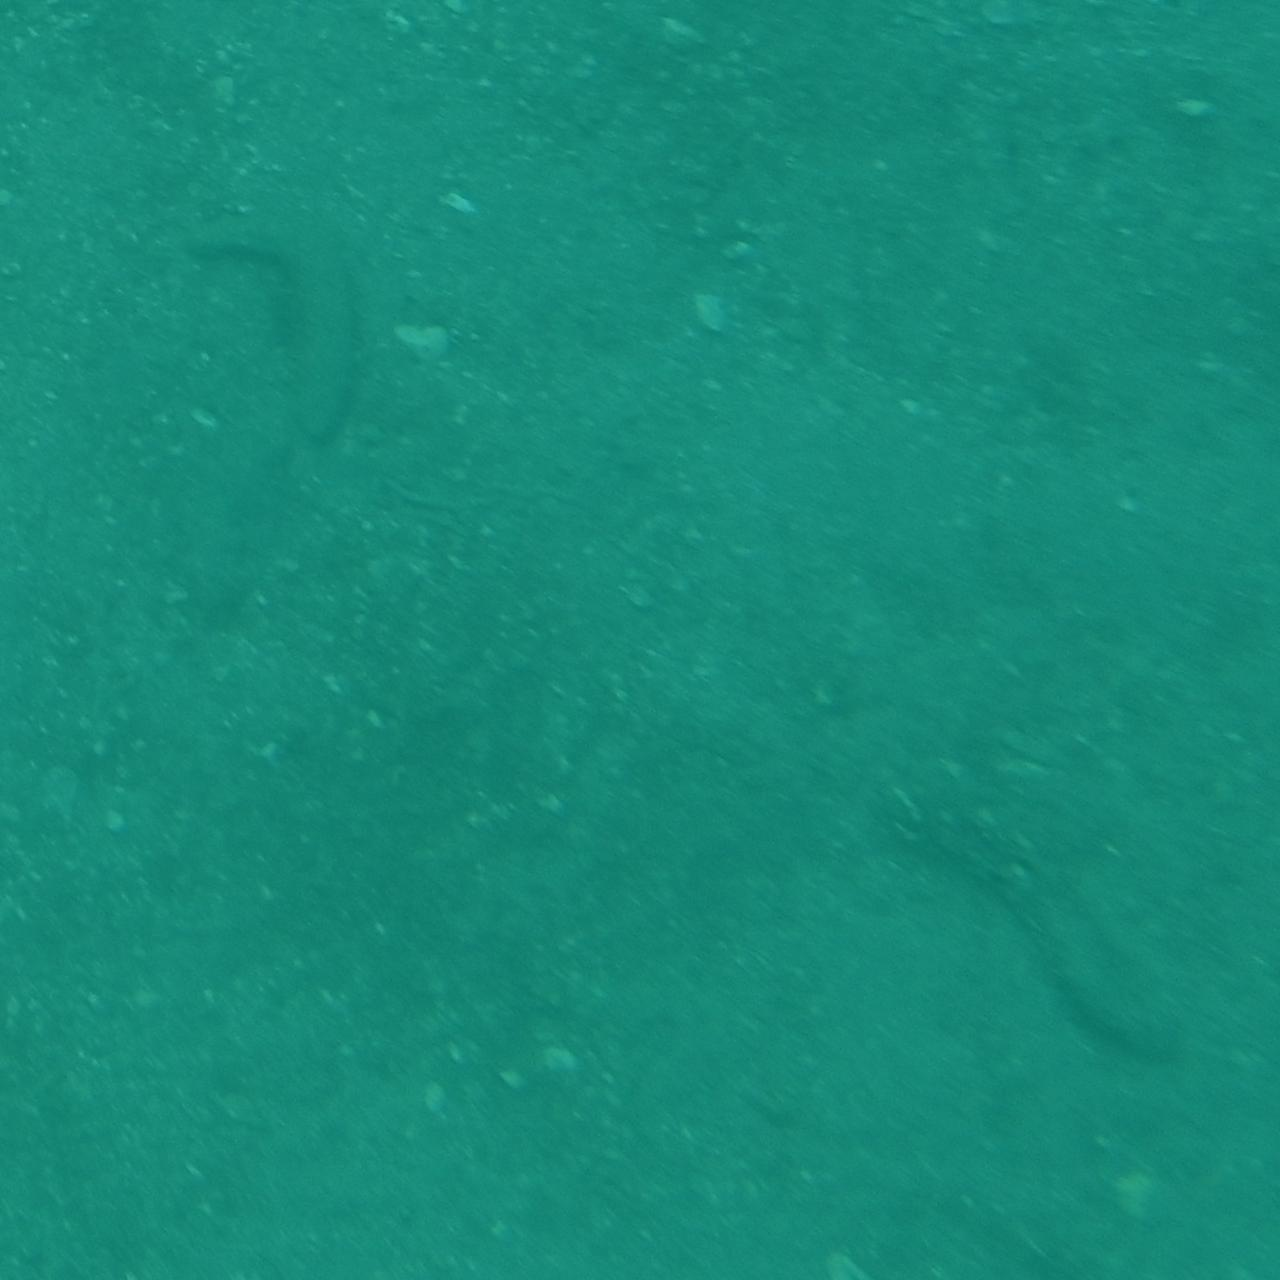Holothuria tubulosa: (865, 789, 1194, 1089), (132, 206, 368, 476)
